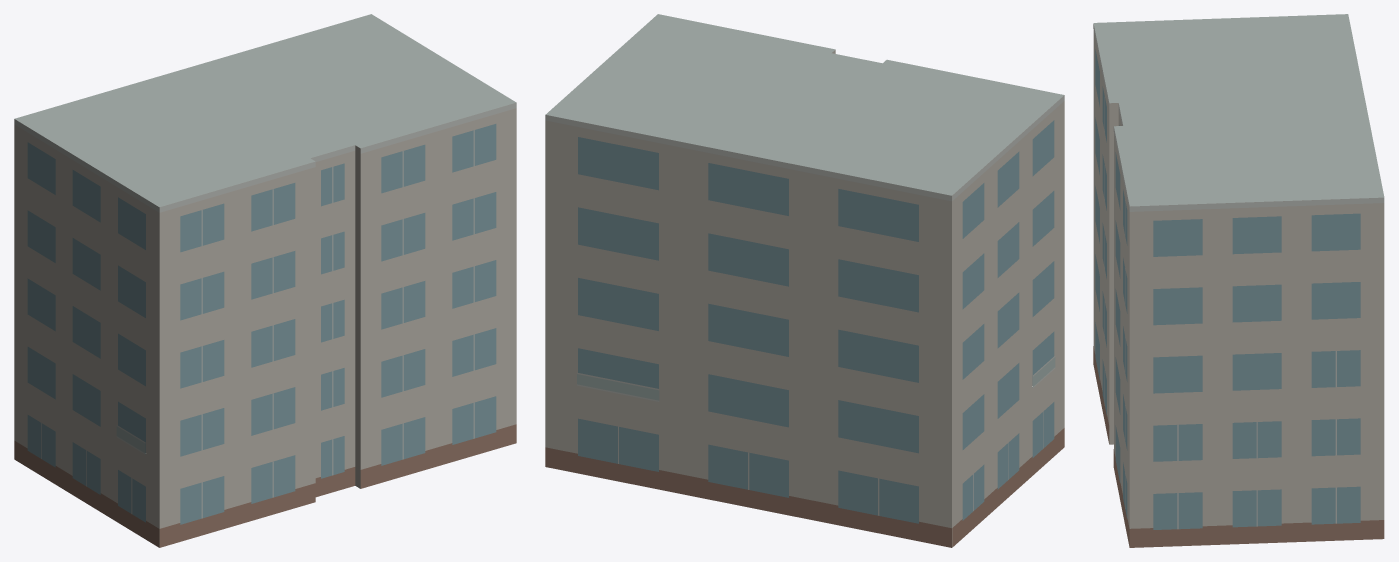
The model's file is survey-upis-33014494.glb.
The picture shows the model from 3 angles, left to right: view 1: azimuth 30°, elevation 25°; view 2: azimuth 150°, elevation 25°; view 3: azimuth 270°, elevation 25°; orthographic projection. The views are drawn at different scales.
Visible parts, largest first — view 1: survey-upis-33014494.tmp; view 2: survey-upis-33014494.tmp; view 3: survey-upis-33014494.tmp.
Boxes of the visible parts, x1=… form: survey-upis-33014494.tmp: x1=14, y1=14, x2=516, y2=547; survey-upis-33014494.tmp: x1=545, y1=14, x2=1064, y2=547; survey-upis-33014494.tmp: x1=1093, y1=14, x2=1384, y2=547.
Size of the model in its own units: 18.33 by 15.15 by 11.71.
